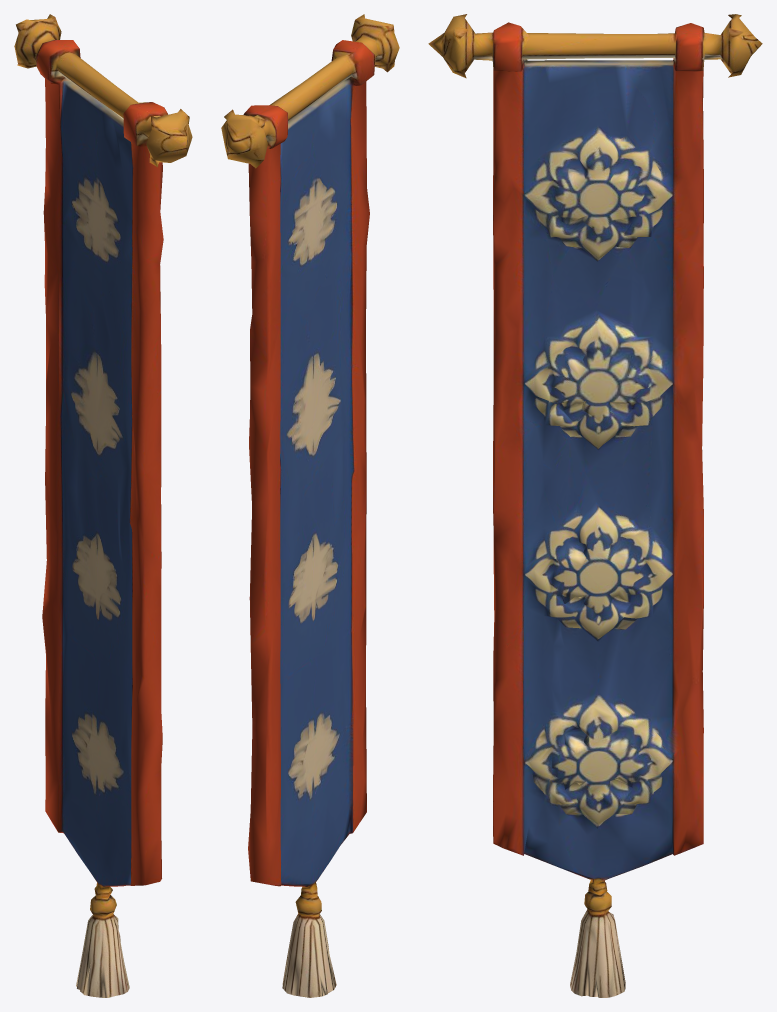
File: banner.glb
The picture shows the model from 3 angles, left to right: view 1: azimuth 30°, elevation 25°; view 2: azimuth 150°, elevation 25°; view 3: azimuth 270°, elevation 25°; orthographic projection. The views are drawn at different scales.
Visible parts, largest first — view 1: kusuriuri; view 2: kusuriuri; view 3: kusuriuri.
Part boxes in pixels (box(x1,y1,x2,y2)): kusuriuri: box(14, 14, 192, 997); kusuriuri: box(221, 14, 399, 997); kusuriuri: box(428, 14, 762, 997).
Bounding box in the file's own units: 0.1282 × 2.4 × 0.7518.
1 material, 1 textured.
